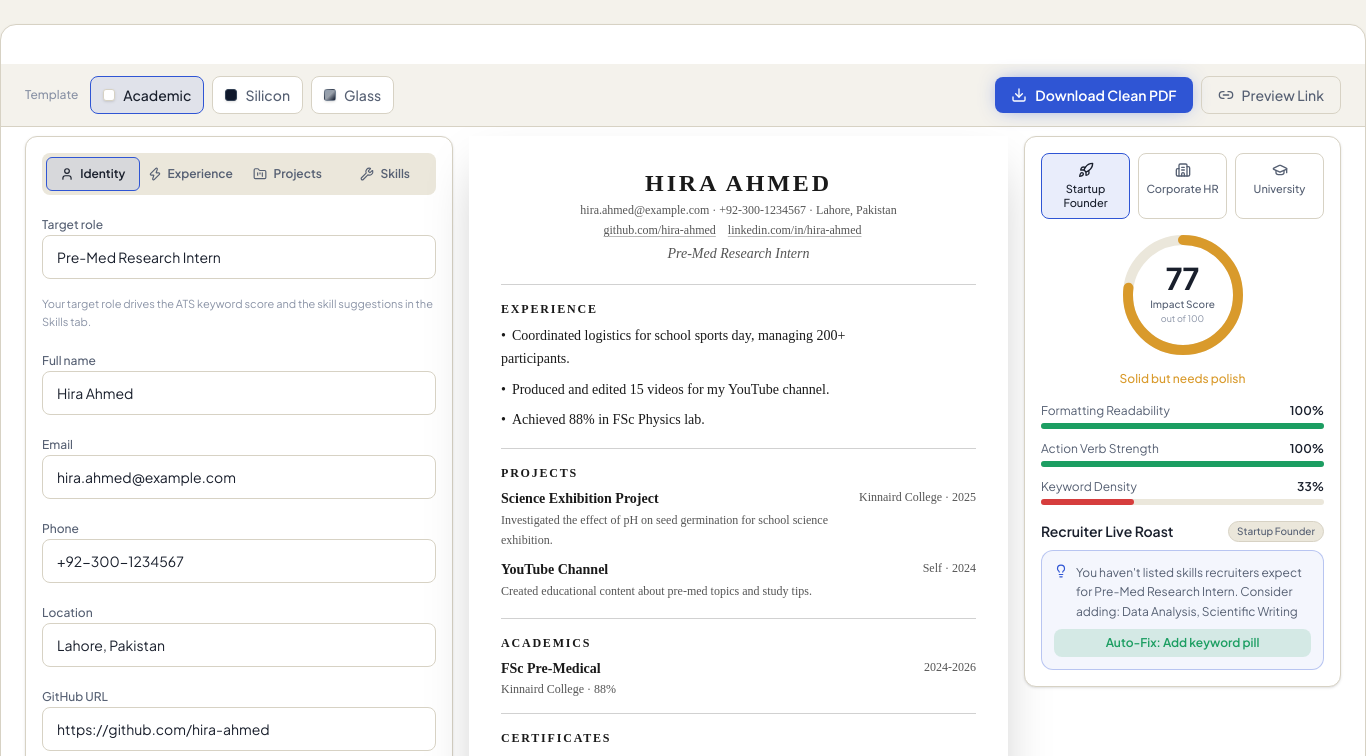
it: shows role-based skill suggestions and clicking one selects it
Replace the text in the field labelled "Target role" with "Web Developer" at x=239, y=257, box [42,235,436,279]
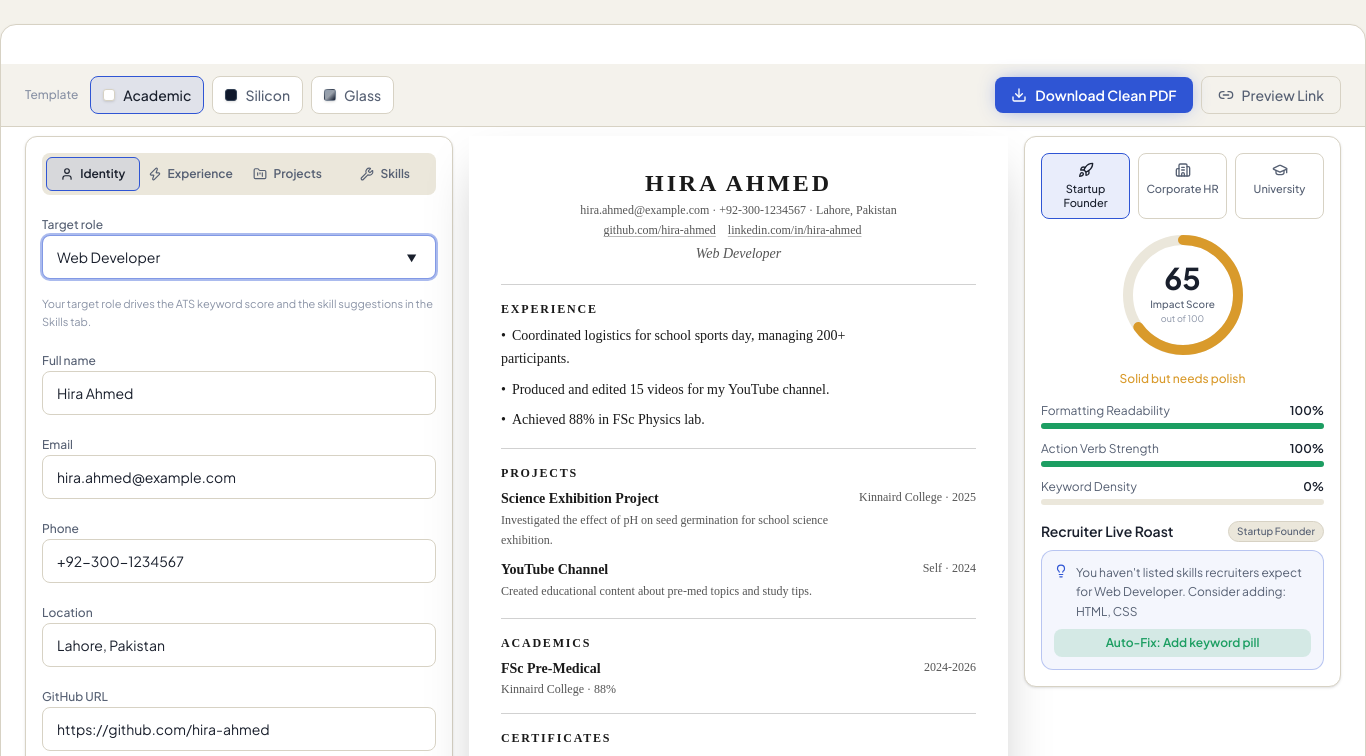
Click the tab "Skills" at x=385, y=174, box [338,157,432,191]
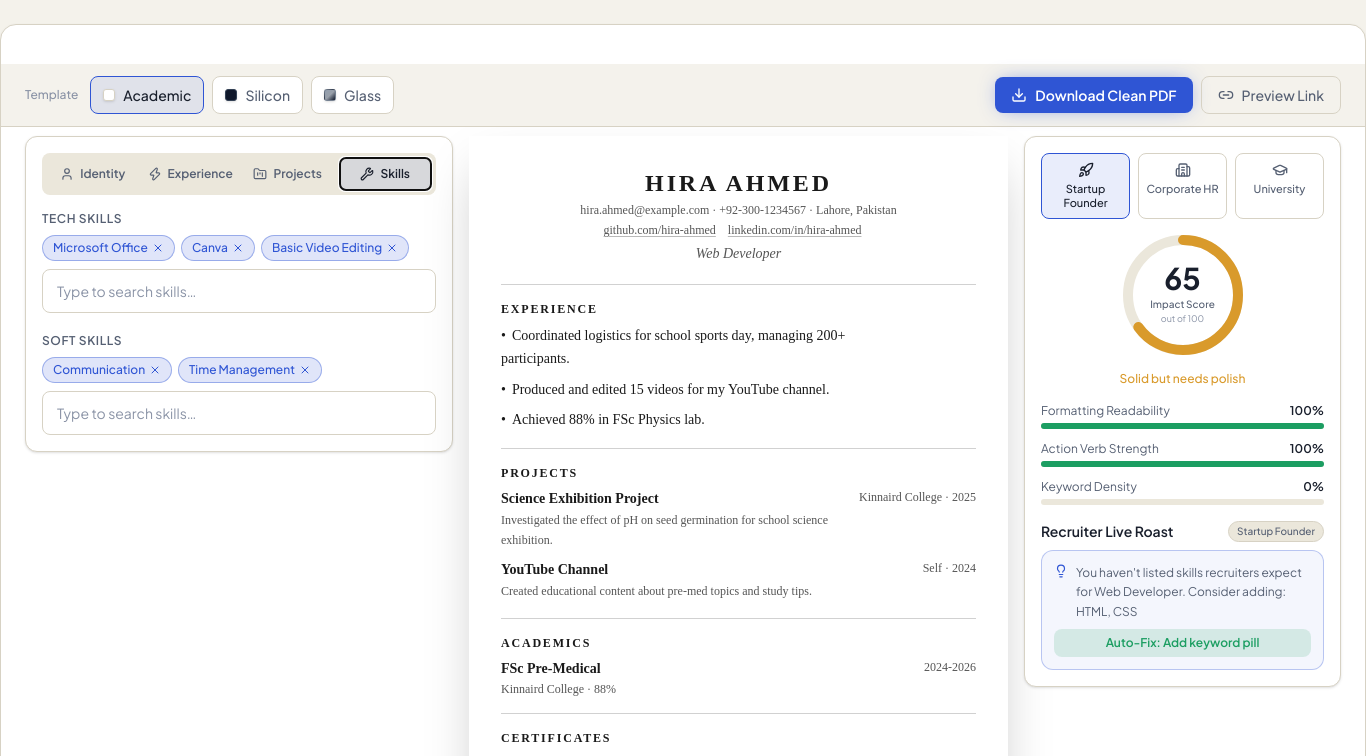
Type "H" into the field named "search tech skills" at x=239, y=291, box [42,269,436,313]
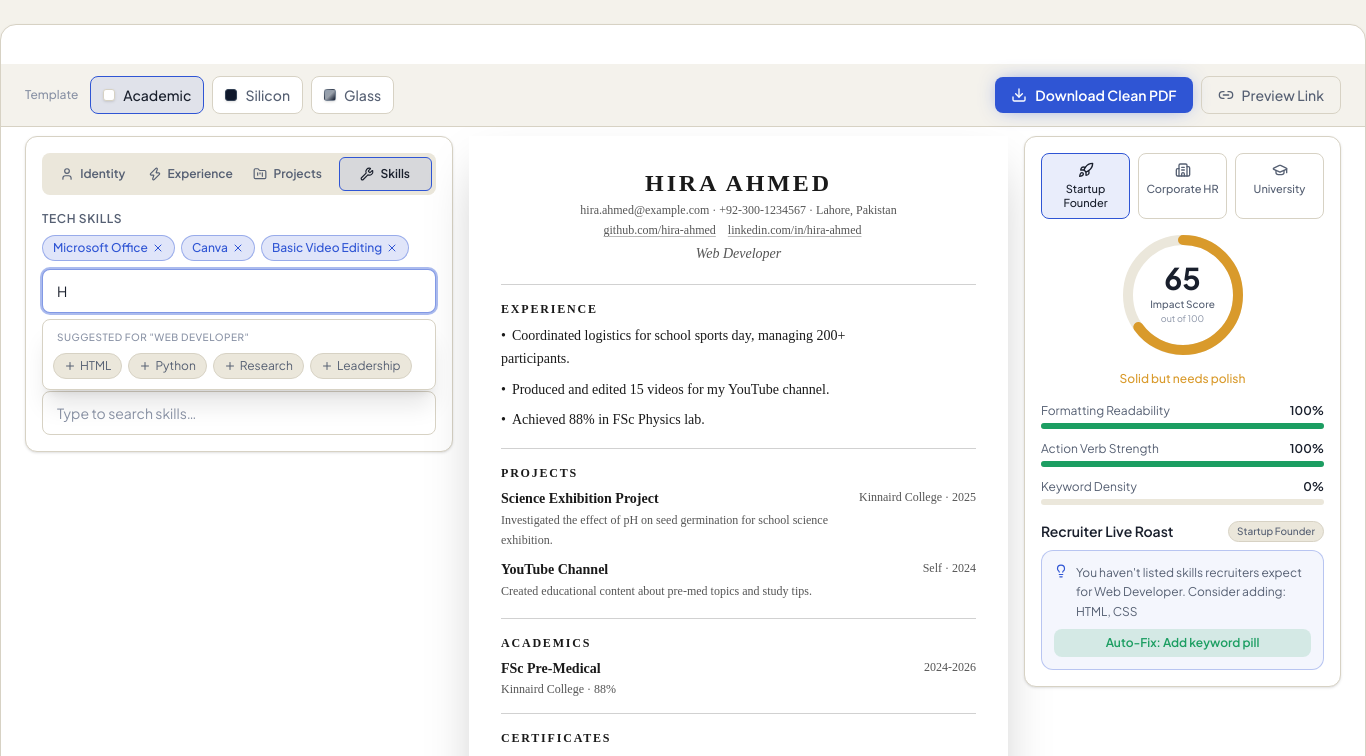
Now the button "HTML" is shown
Click the button "HTML" at x=88, y=366, box [53,353,122,379]
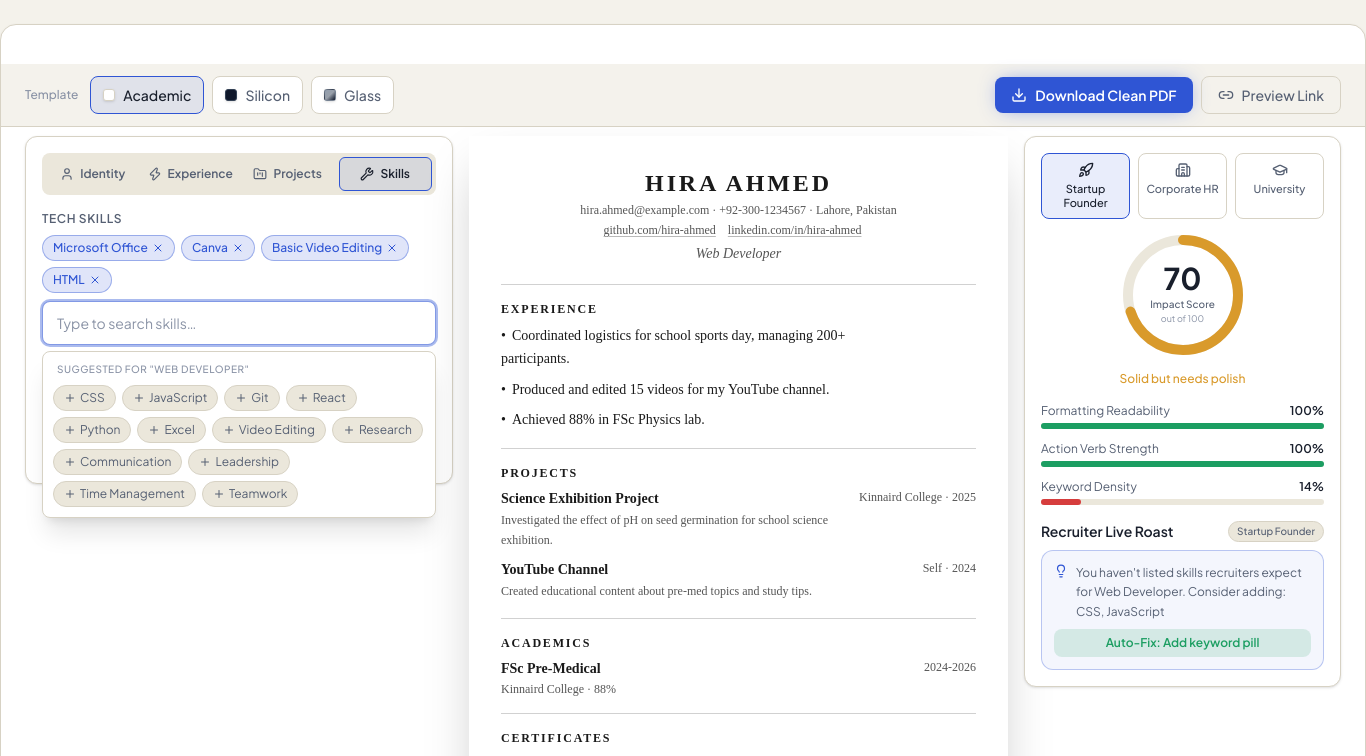
Now the button with aria-label "Remove HTML" is shown, box [42,267,112,293]
